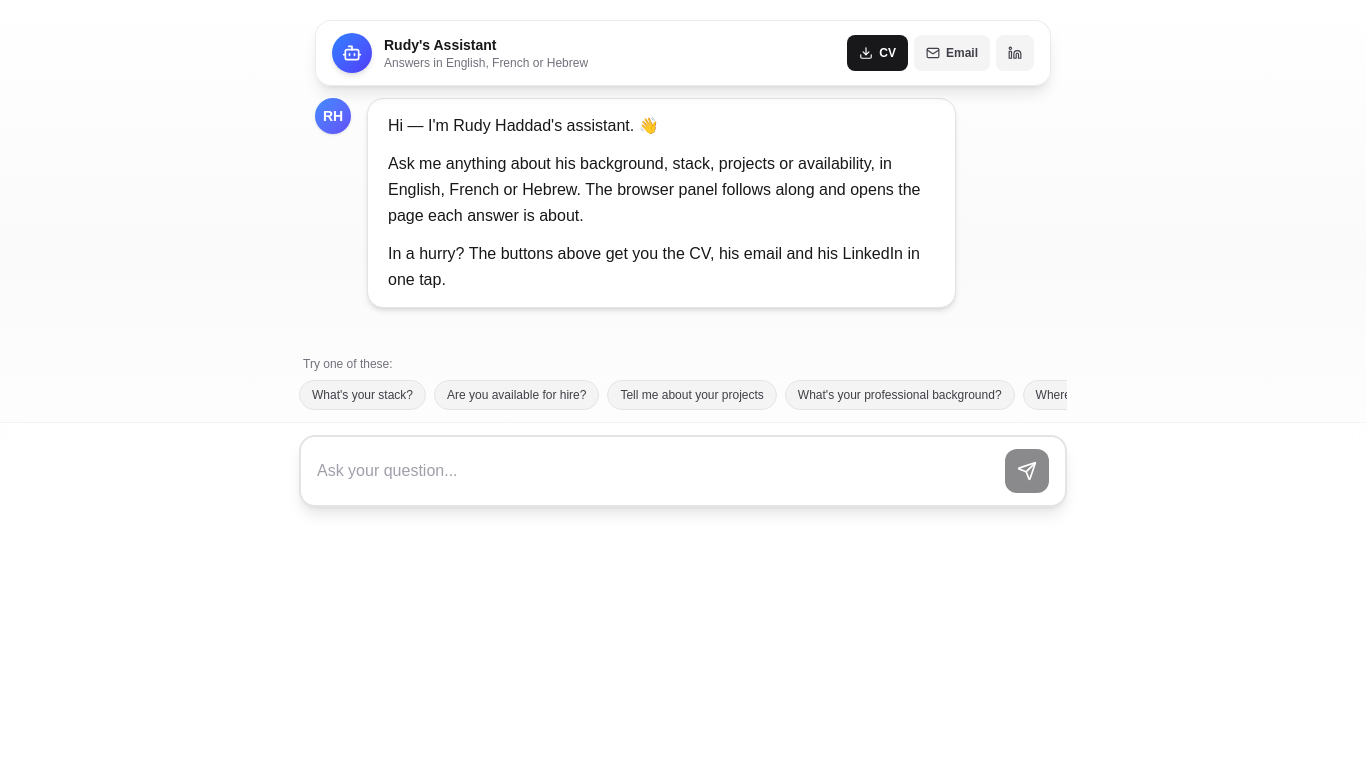
Scenario: waiting for a slow agent › names what it is doing instead of showing bare dots
Type "hello" into the field named "ask a question" at (657,471), box [317,459,997,483]
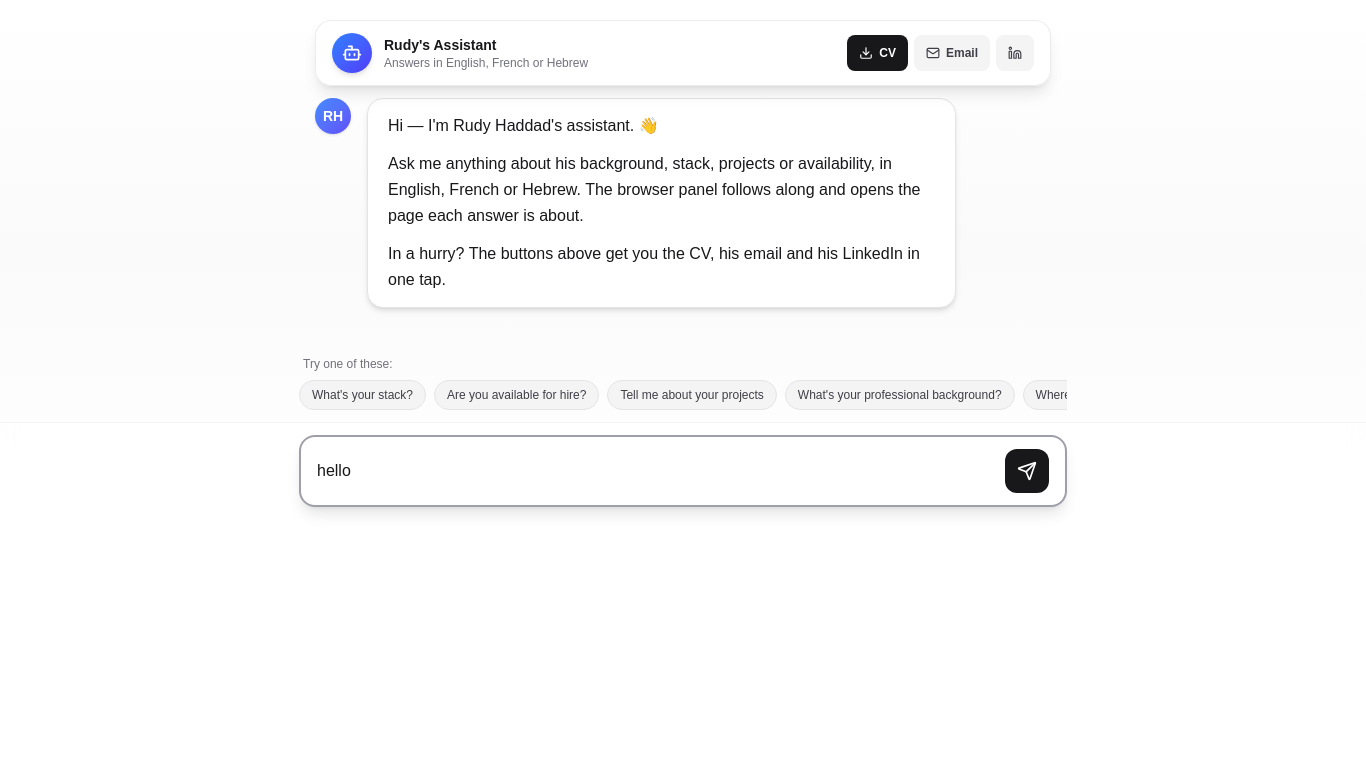
Click the button named "send message" at (1027,471), box [1005,449,1049,493]
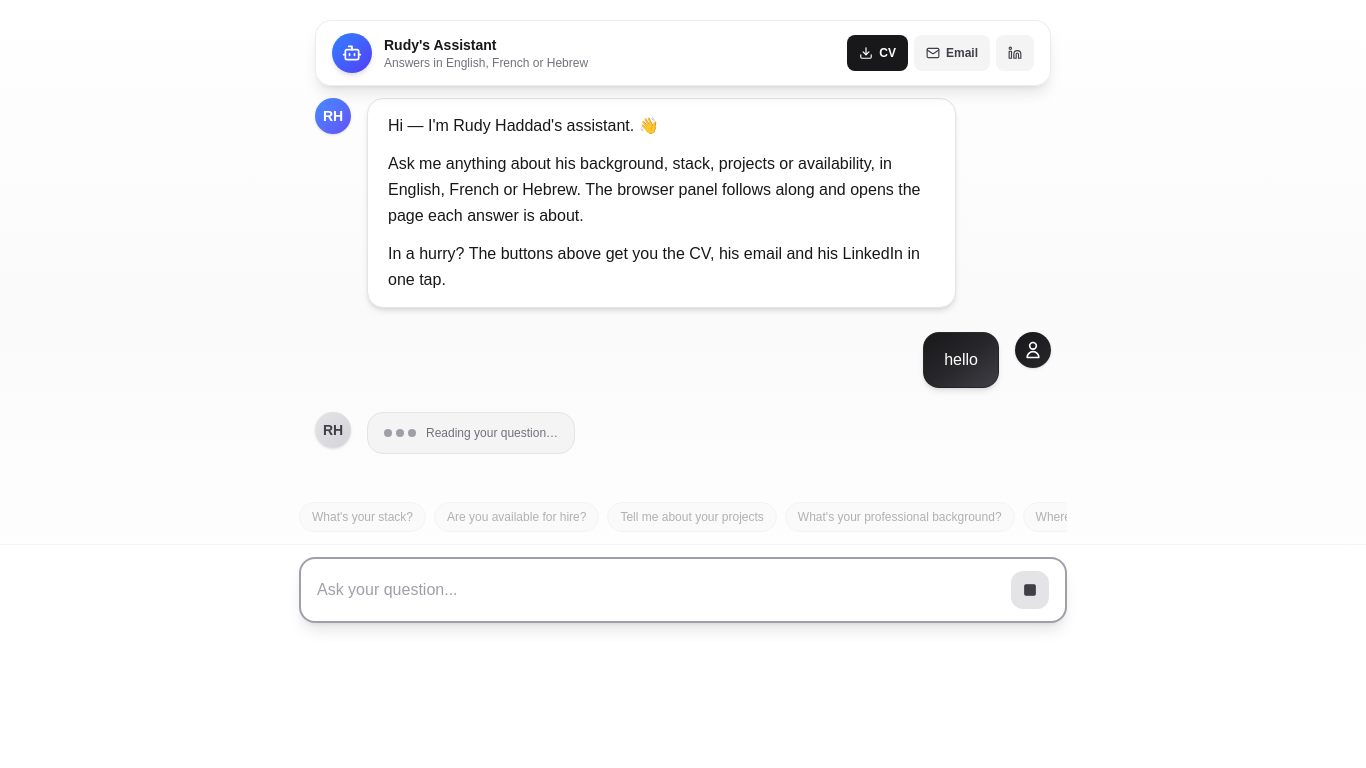
Now the text "Reading your question…" is shown, box [426,425,558,441]
